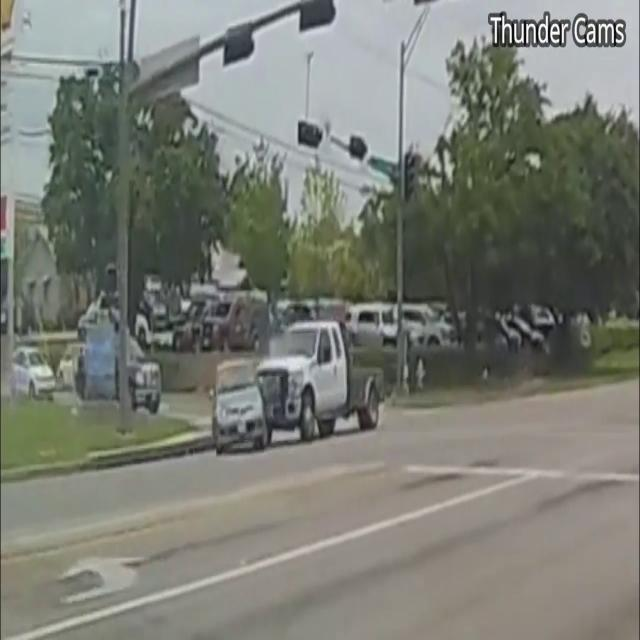accident: (198, 316, 392, 458)
